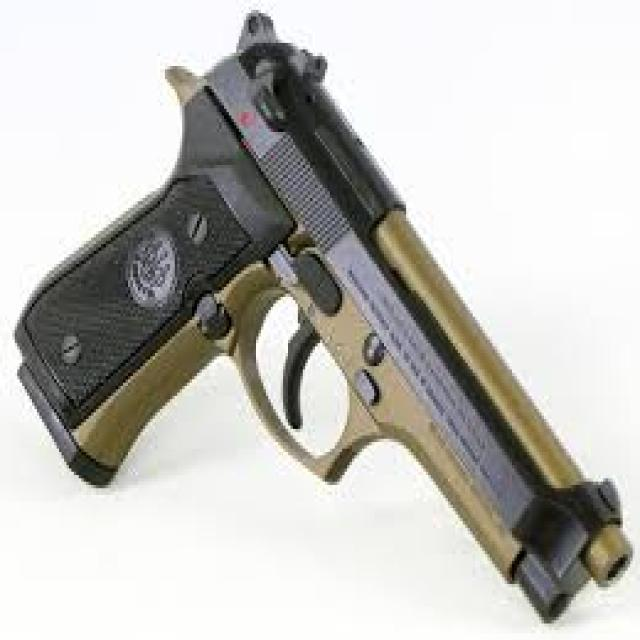pistol: (13, 7, 637, 639)
